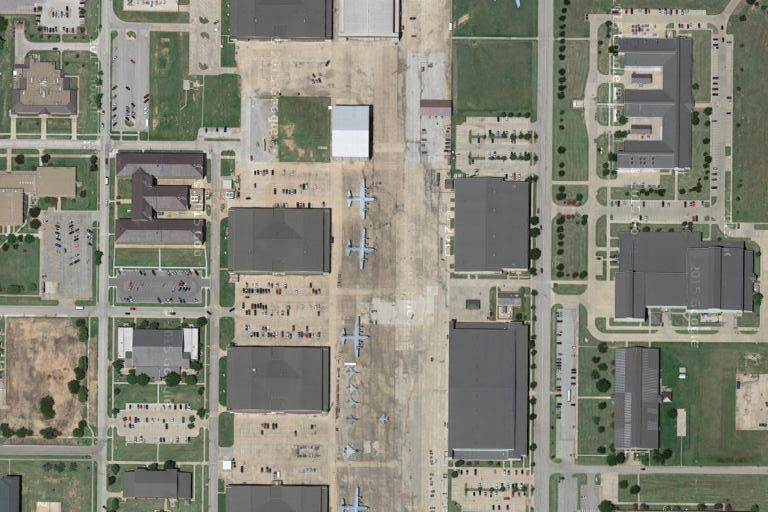C-130: (343, 222, 378, 273), (337, 312, 370, 364), (344, 172, 377, 221)
